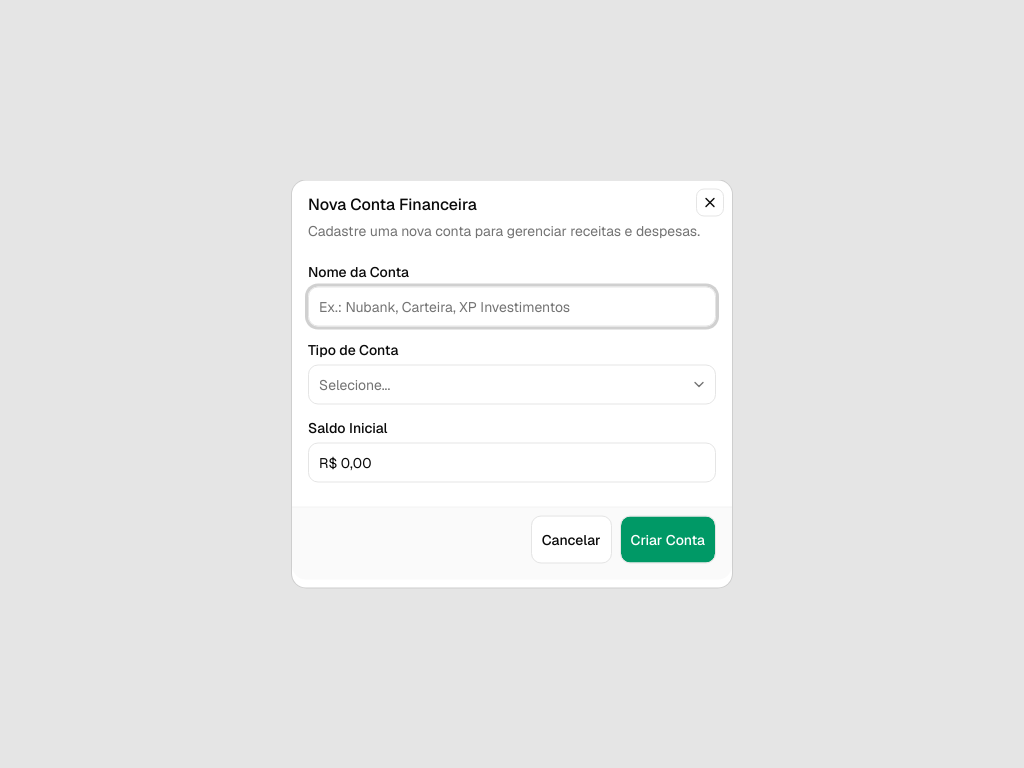
Test: AccountFormDialog Component › deve exibir erro de validação ao tentar submeter com nome vazio
Click the button with test id "account-submit-button".
click(668, 540)  # box 620,516 -> 716,564
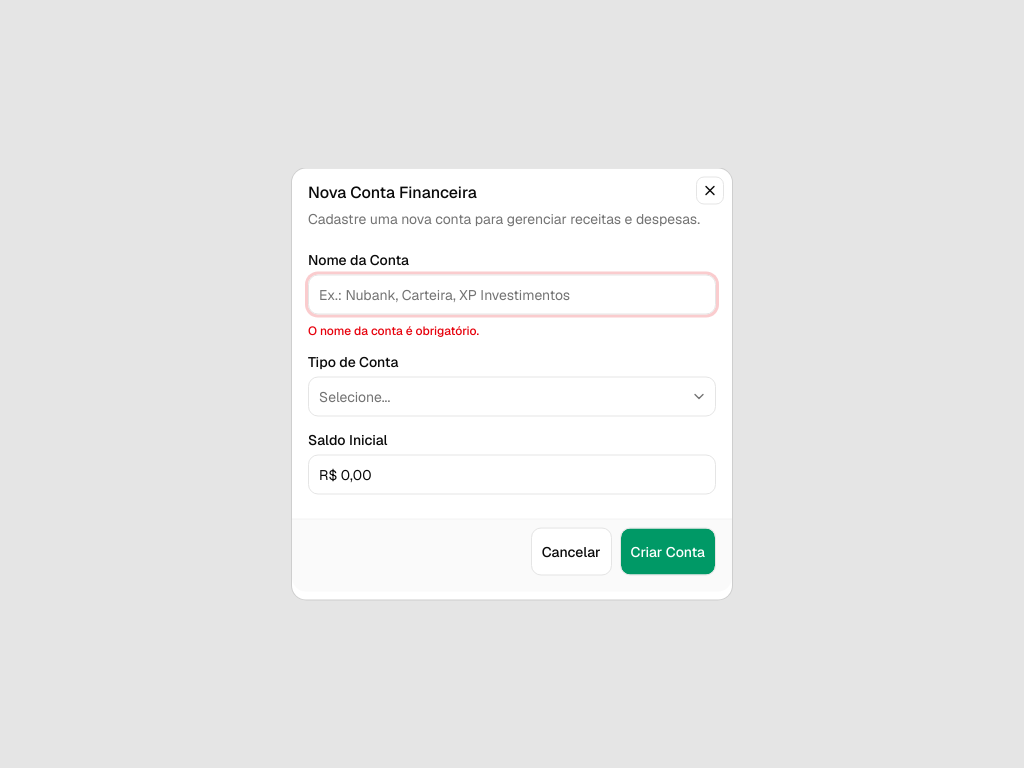
Expected: the text "O nome da conta é obrigatório." is shown, 308,322 -> 479,338
